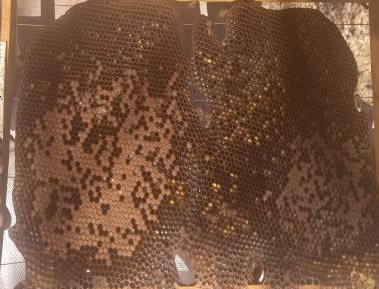cria: (22, 57, 192, 266), (274, 108, 374, 252)
